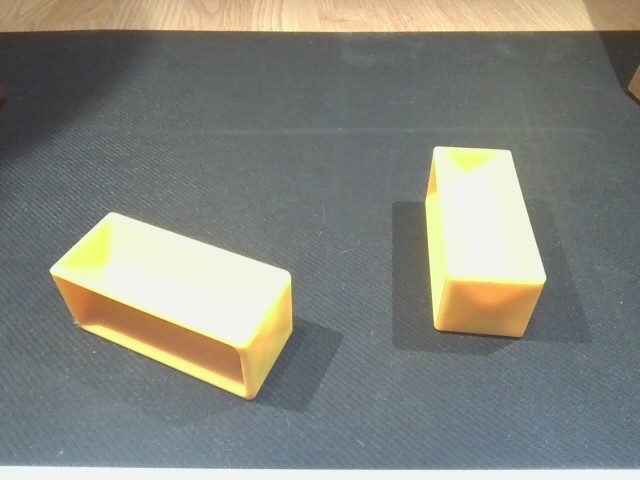YellowSample: (47, 209, 310, 400), (420, 143, 550, 344)
